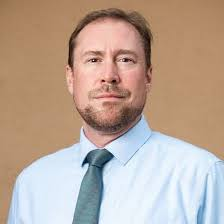person: (65, 9, 153, 135)
